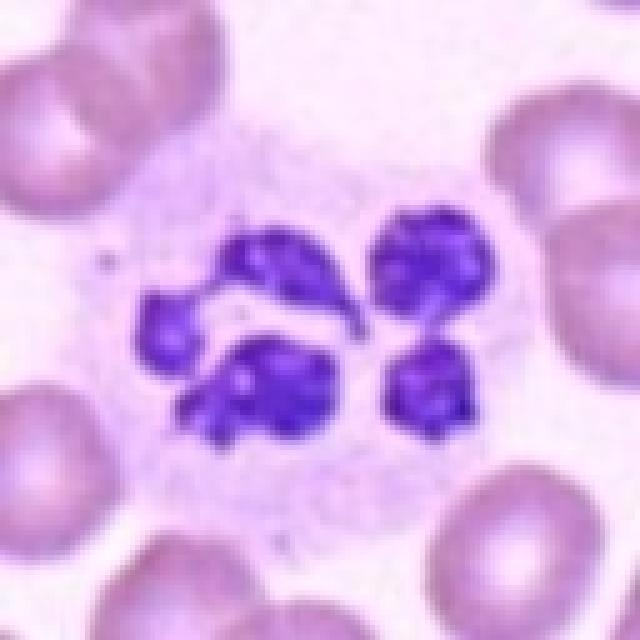neutro: (120, 134, 547, 568)
